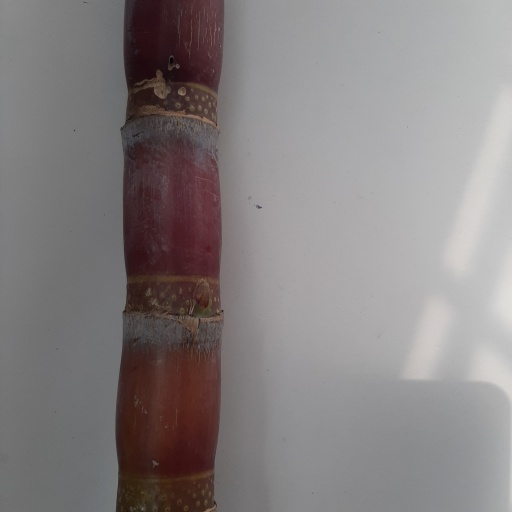Bud: (192, 280, 213, 310)
